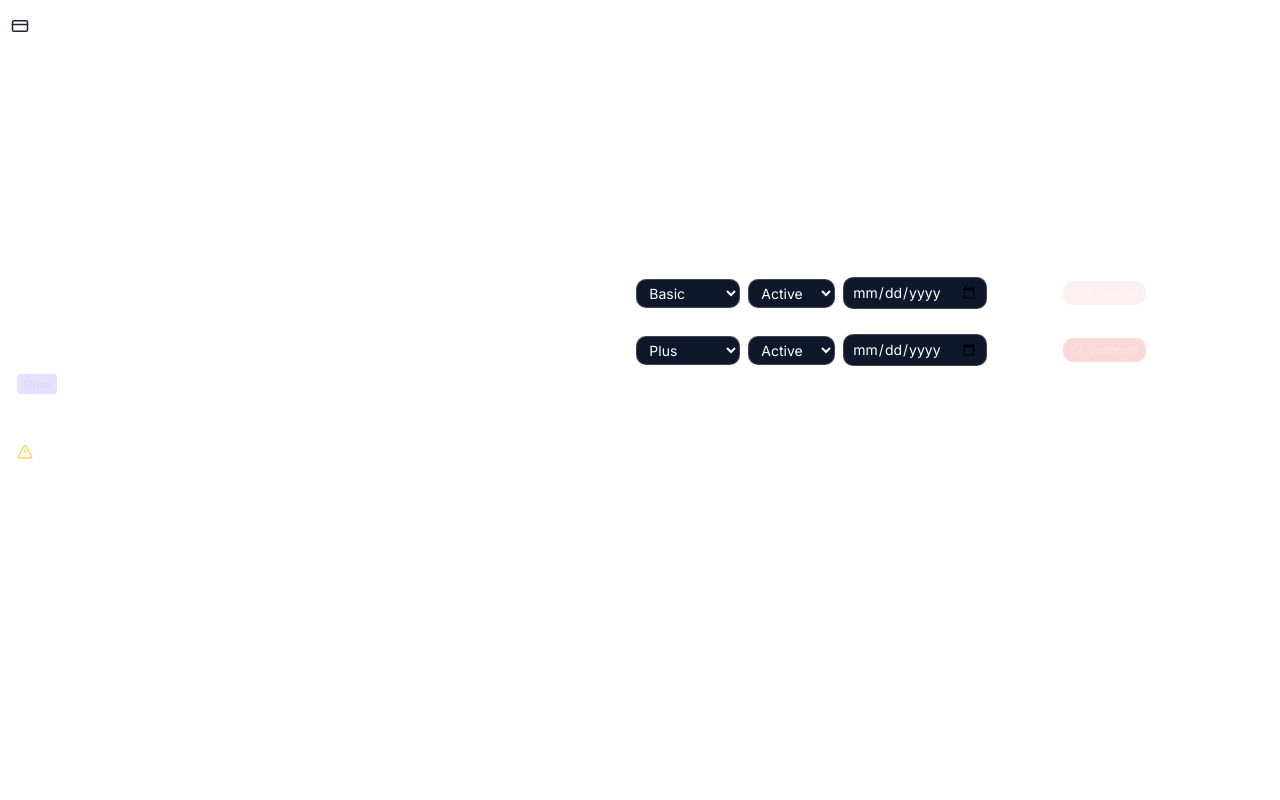
AdminBilling › Suspend sends status canceled with the current plan and warns about Stripe
Later steps or results of the test are not shown.
Expected: the row with test id "parent-row-u-stripe" is shown, [1, 326, 1279, 402]
Click the button "Suspend" in the row of "Stripe Payer" at (1105, 350), box [1063, 338, 1146, 362]
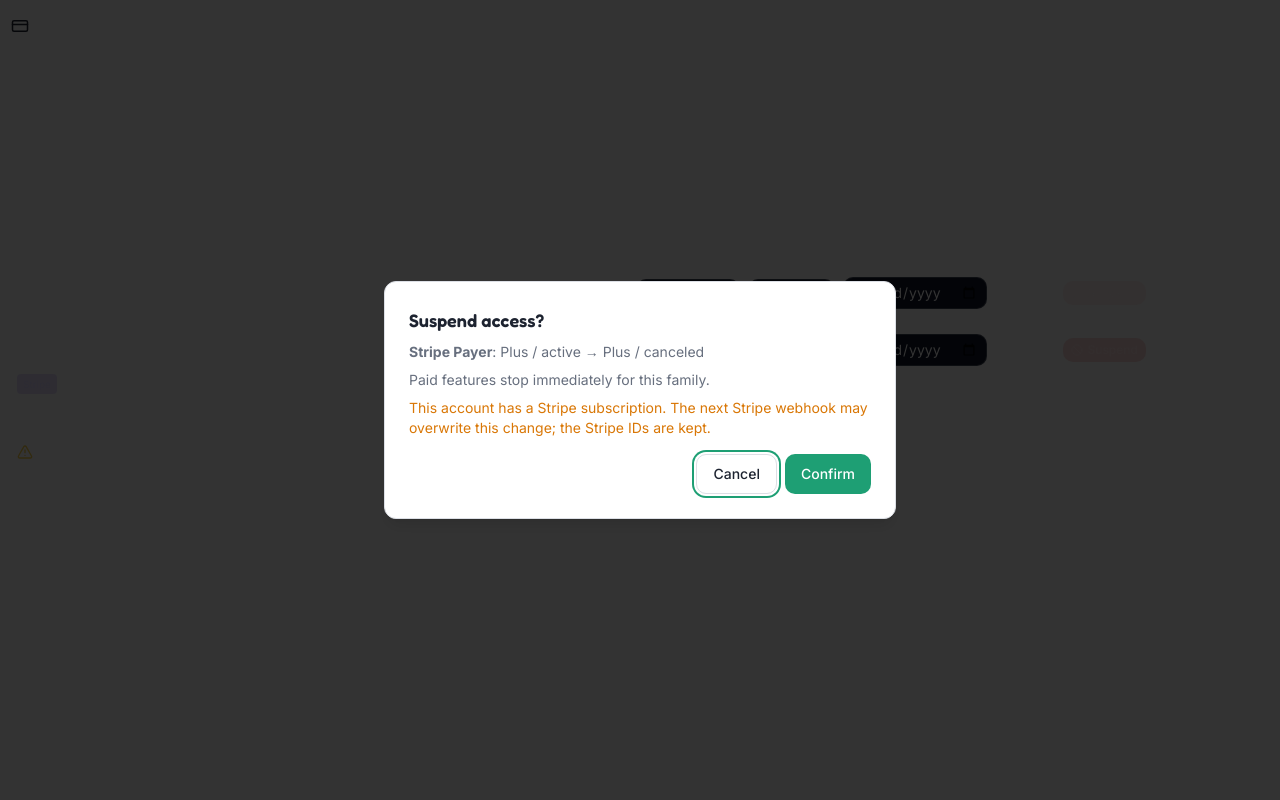
Now the heading "Suspend access?" is shown, box [409, 309, 544, 331]
Now the text "Stripe webhook may overwrite" is shown, box [409, 399, 868, 436]
